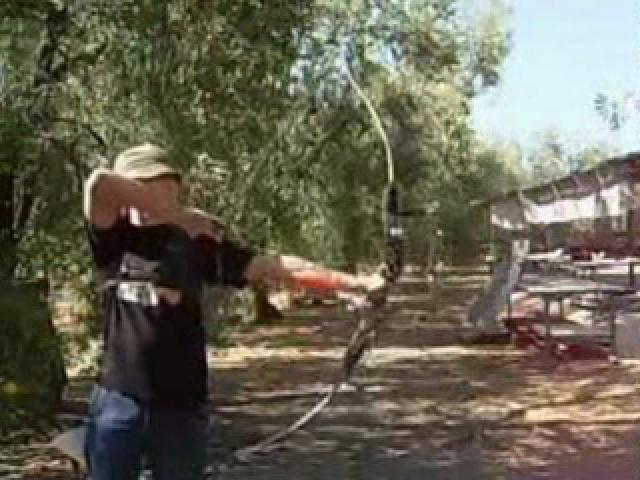I: (65, 130, 392, 480)
